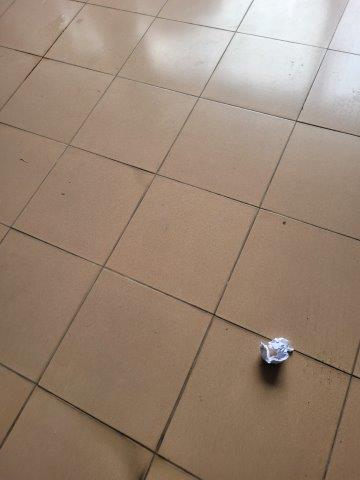kertas: (254, 336, 297, 369)
